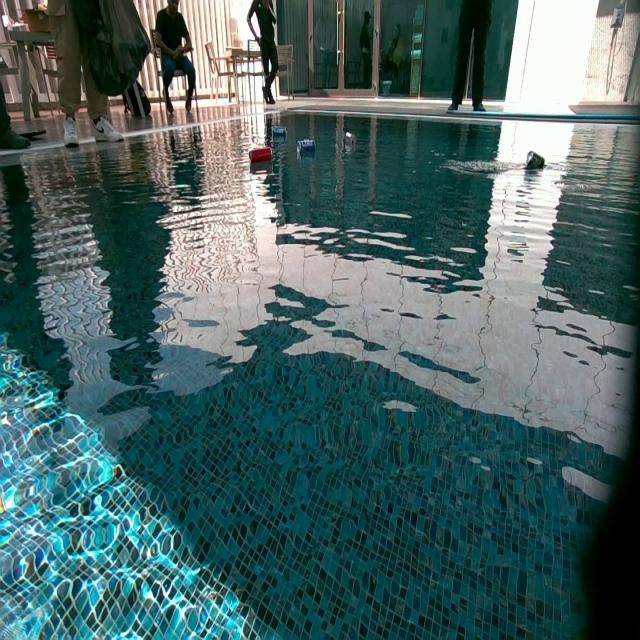Cans: (526, 151, 545, 169), (249, 148, 271, 163), (298, 140, 317, 155), (272, 127, 287, 139), (345, 134, 356, 148)
